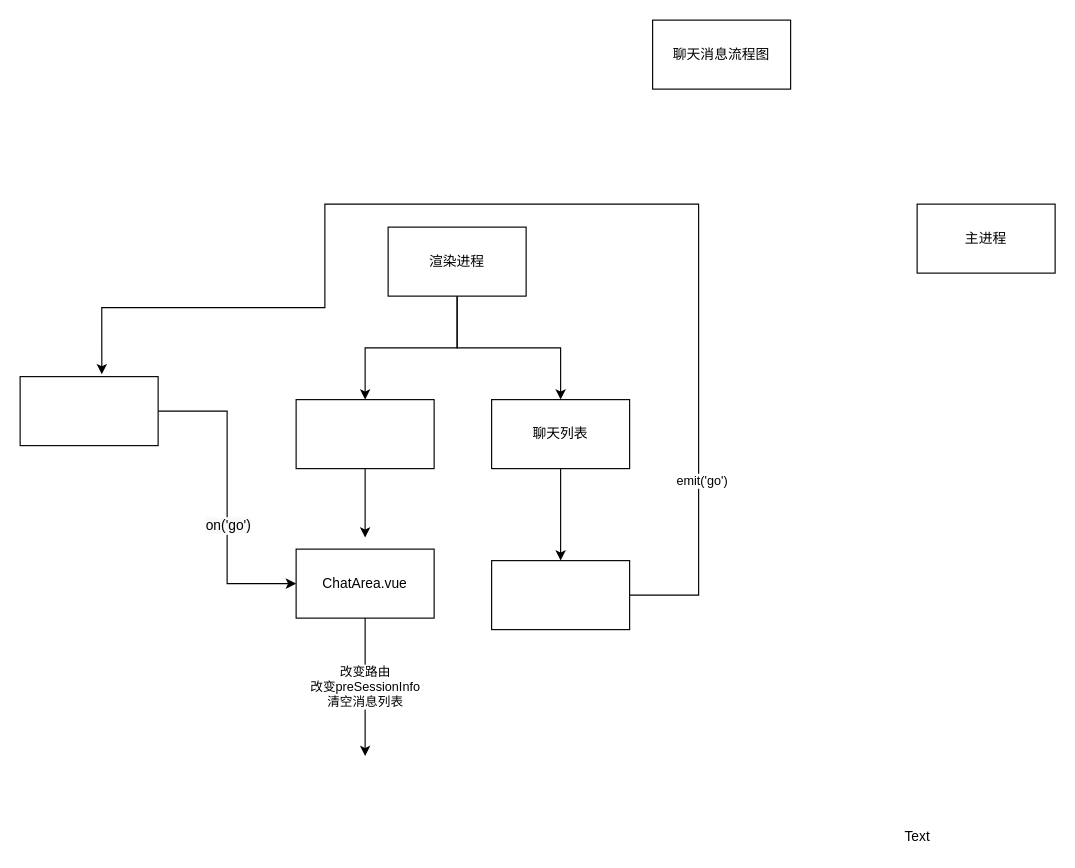
Image size: 1075x868. Some labels were removed from this diagram. Here are the shapes that lost their labels. From the top down, the centre of each, then its label:
At [88,410]: "EventEmitter".
At [364,433]: "会话列表".
At [560,594]: "sessionItem.vue".
